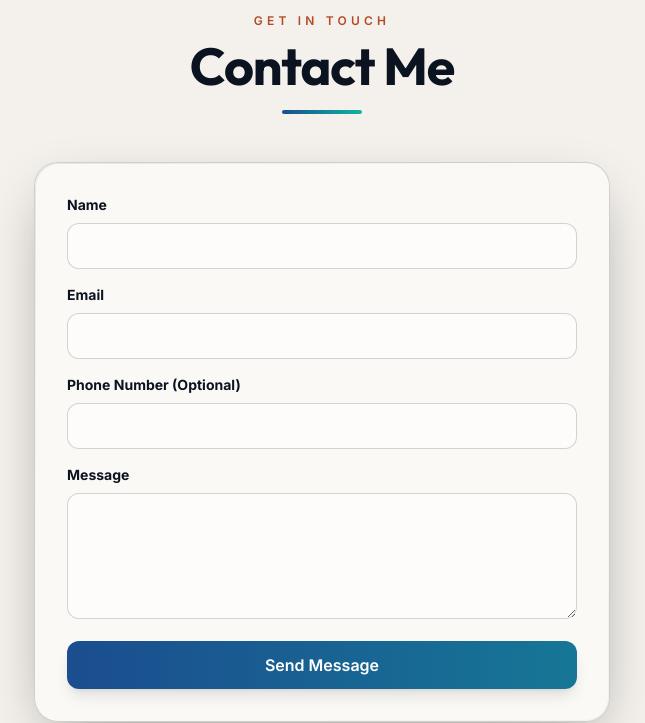
Test: confirms success without reloading the page and clears the form
This screenshot has width=645, height=723.
Type "Ada" into the field labelled "Name" at (322, 246), box [67,223,577,269]
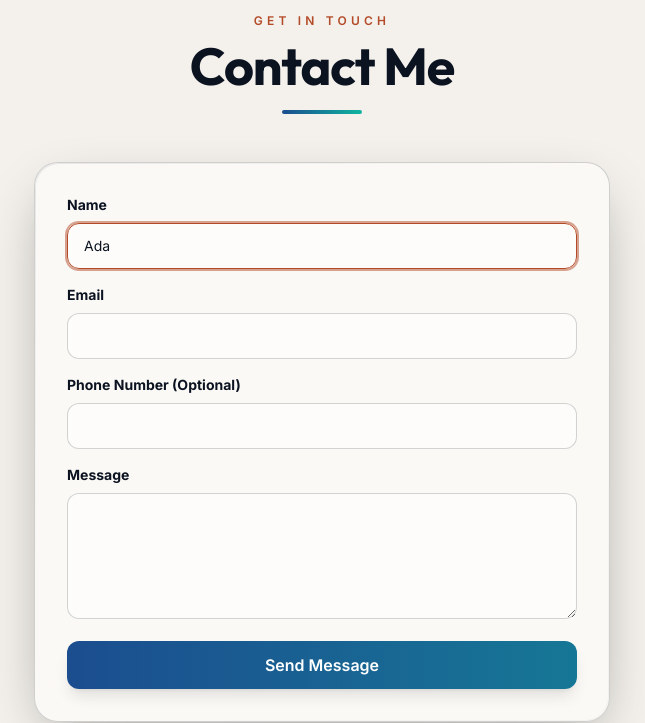
Type "ada@example.com" into the field labelled "Email" at (322, 336), box [67,313,577,359]
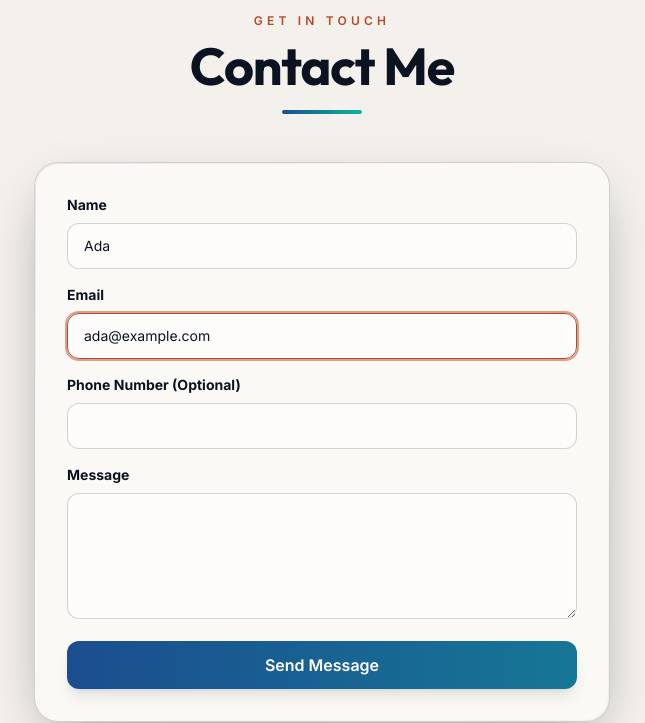
Type "Hello there" into the text box labelled "Message" at (322, 556), box [67,493,577,619]
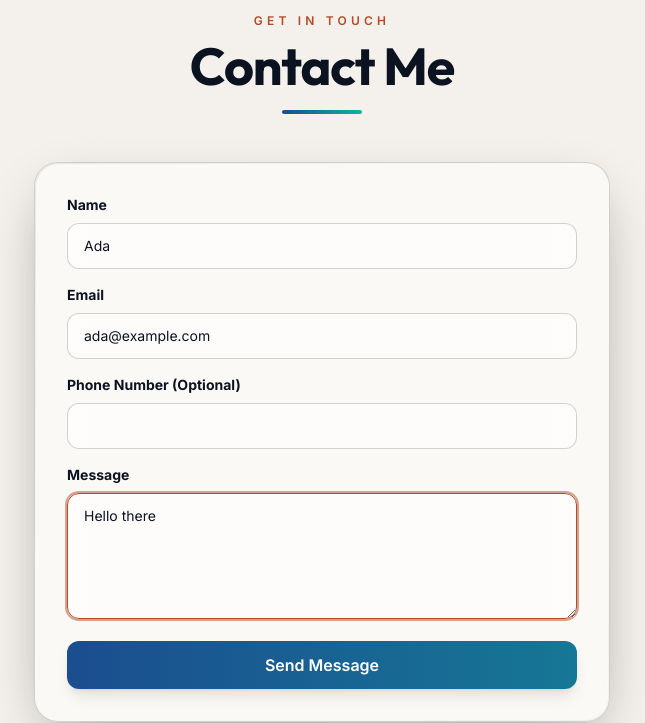
Click the button "Send Message" at (322, 665), box [67,641,577,689]
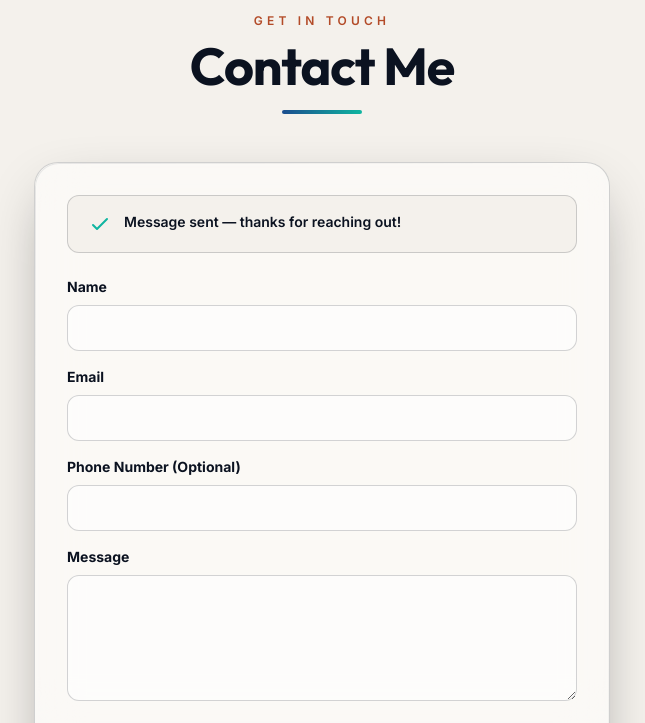
Now the message shows "sent", box [124,213,401,230]
Now the field labelled "Name" is empty, box [67,305,577,351]
